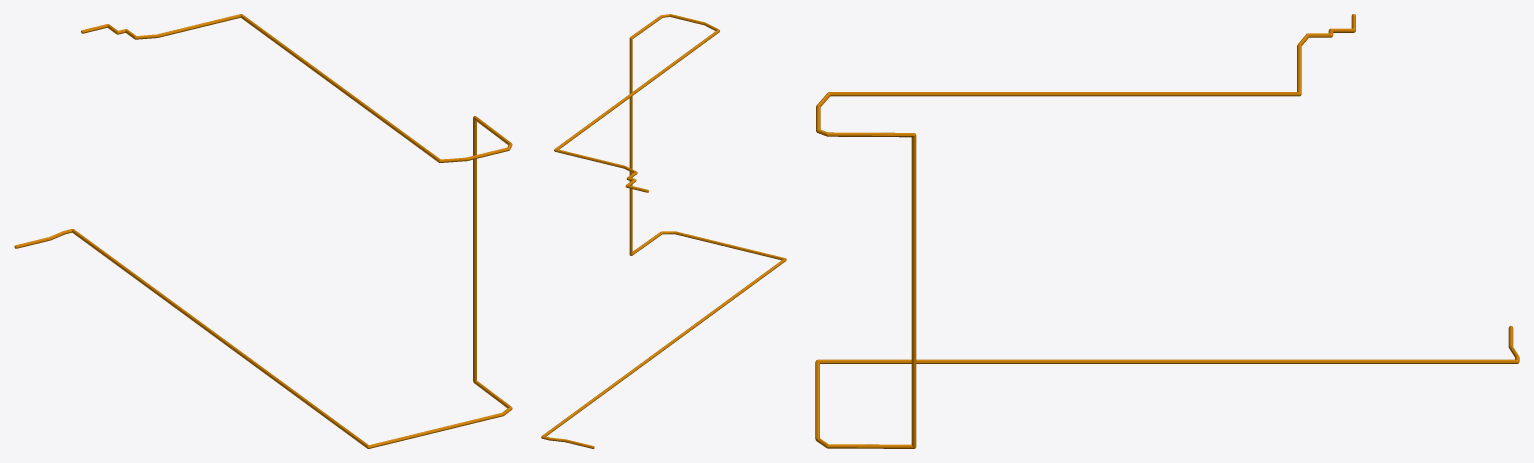
3 renders of one model, left to right at view 1: azimuth 30°, elevation 25°; view 2: azimuth 150°, elevation 25°; view 3: azimuth 270°, elevation 25°, orthographic. The views are drawn at different scales.
Bounding box in the file's own units: 1248 × 1520 × 3070.
